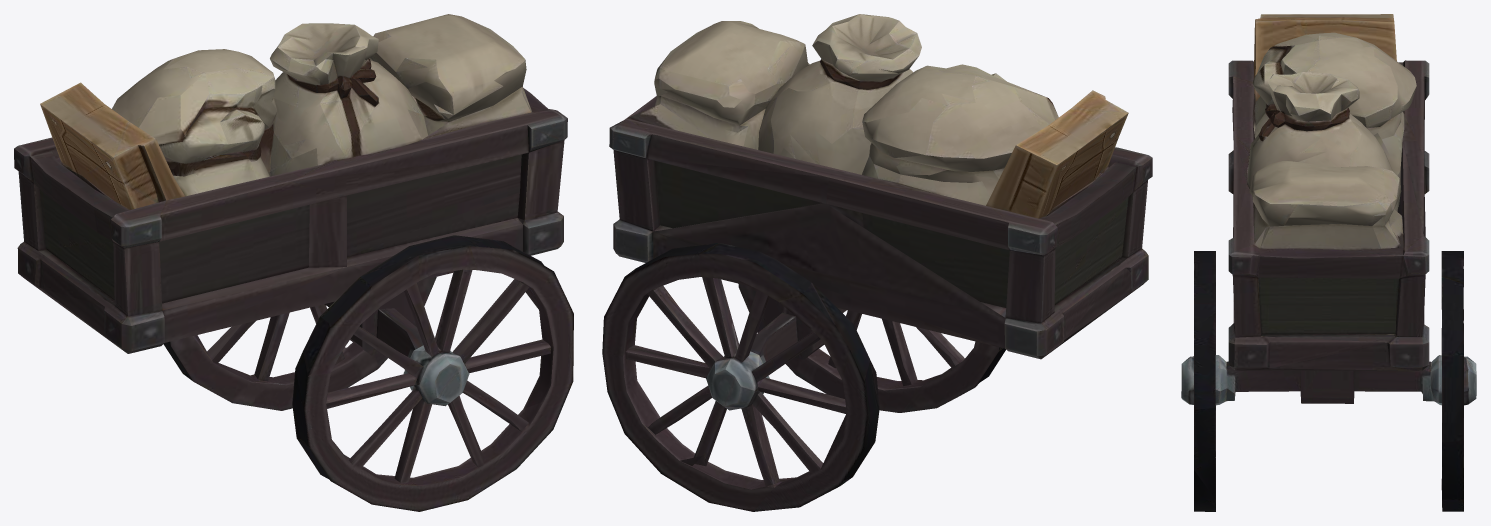
The model's file is cart.glb.
The picture shows the model from 3 angles, left to right: view 1: azimuth 30°, elevation 25°; view 2: azimuth 150°, elevation 25°; view 3: azimuth 270°, elevation 25°; orthographic projection. The views are drawn at different scales.
Parts seen in each view (by area): view 1: cart; view 2: cart; view 3: cart.
Part boxes in pixels (x1,y1,x2,y2): cart: (14,14,573,511); cart: (602,14,1152,511); cart: (1181,14,1476,511).
Bounding box in the file's own units: 1.7 × 1.6 × 1.08.
Materials: 1 (1 with a texture image).
